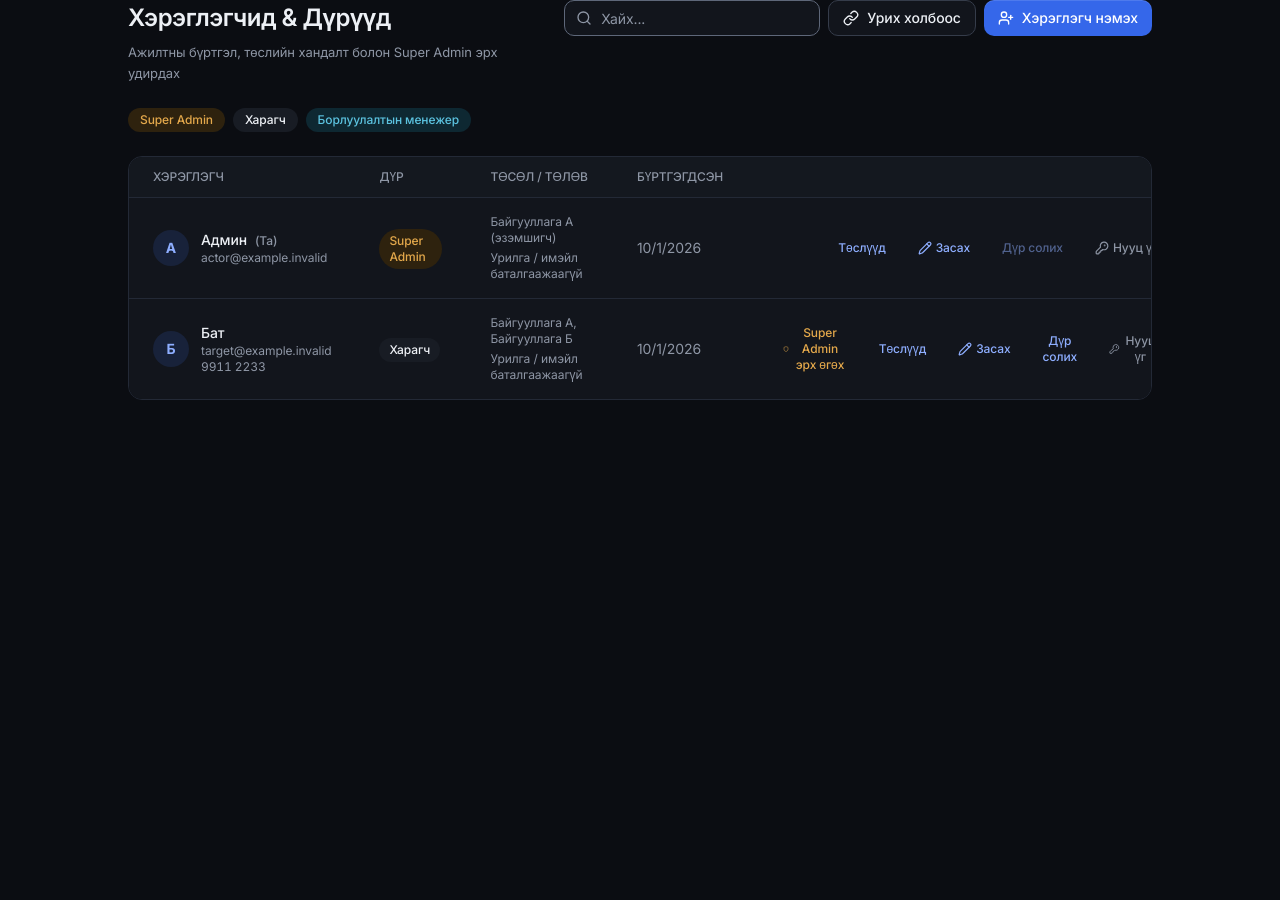
Test: offers and deliberately confirms a Super Admin grant even without its DB role row
Click the button "Super Admin эрх өгөх" at (815, 349), box [771,319,859,379]
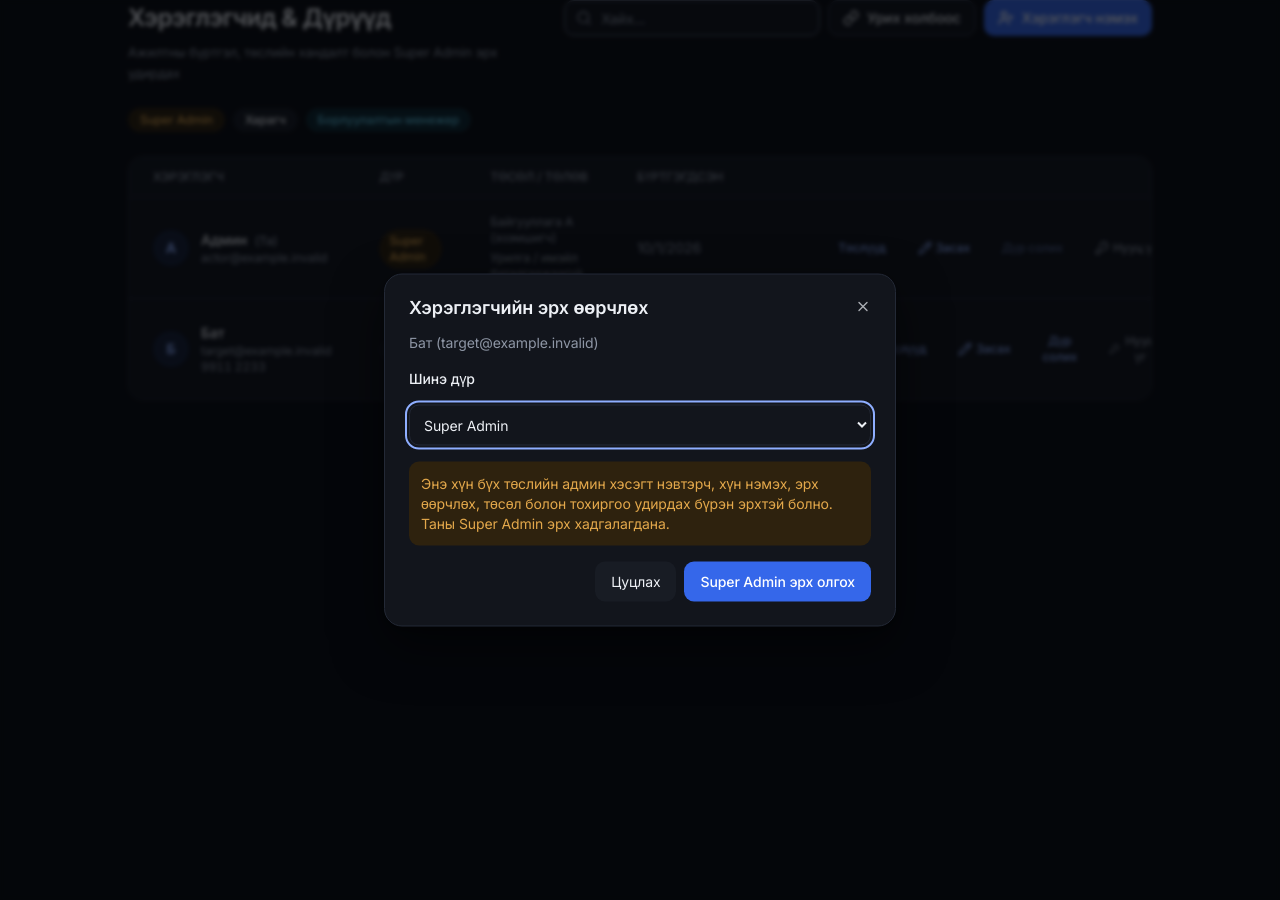
Now the text "бүх төслийн админ хэсэгт" is shown, box [421,474,833,532]
Click the button "Super Admin эрх олгох" at (778, 582), box [684,562,871,602]
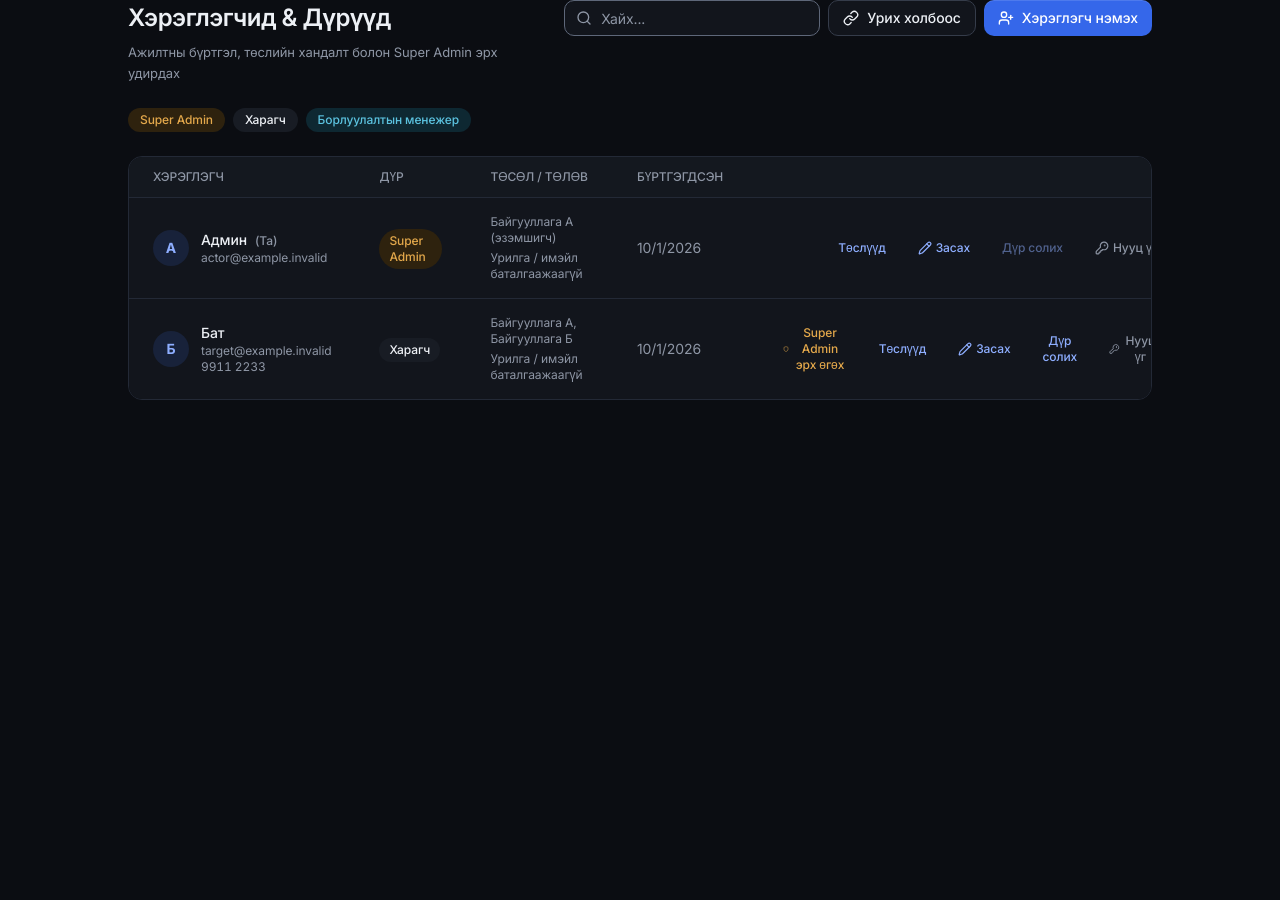
Now the dialog is gone
